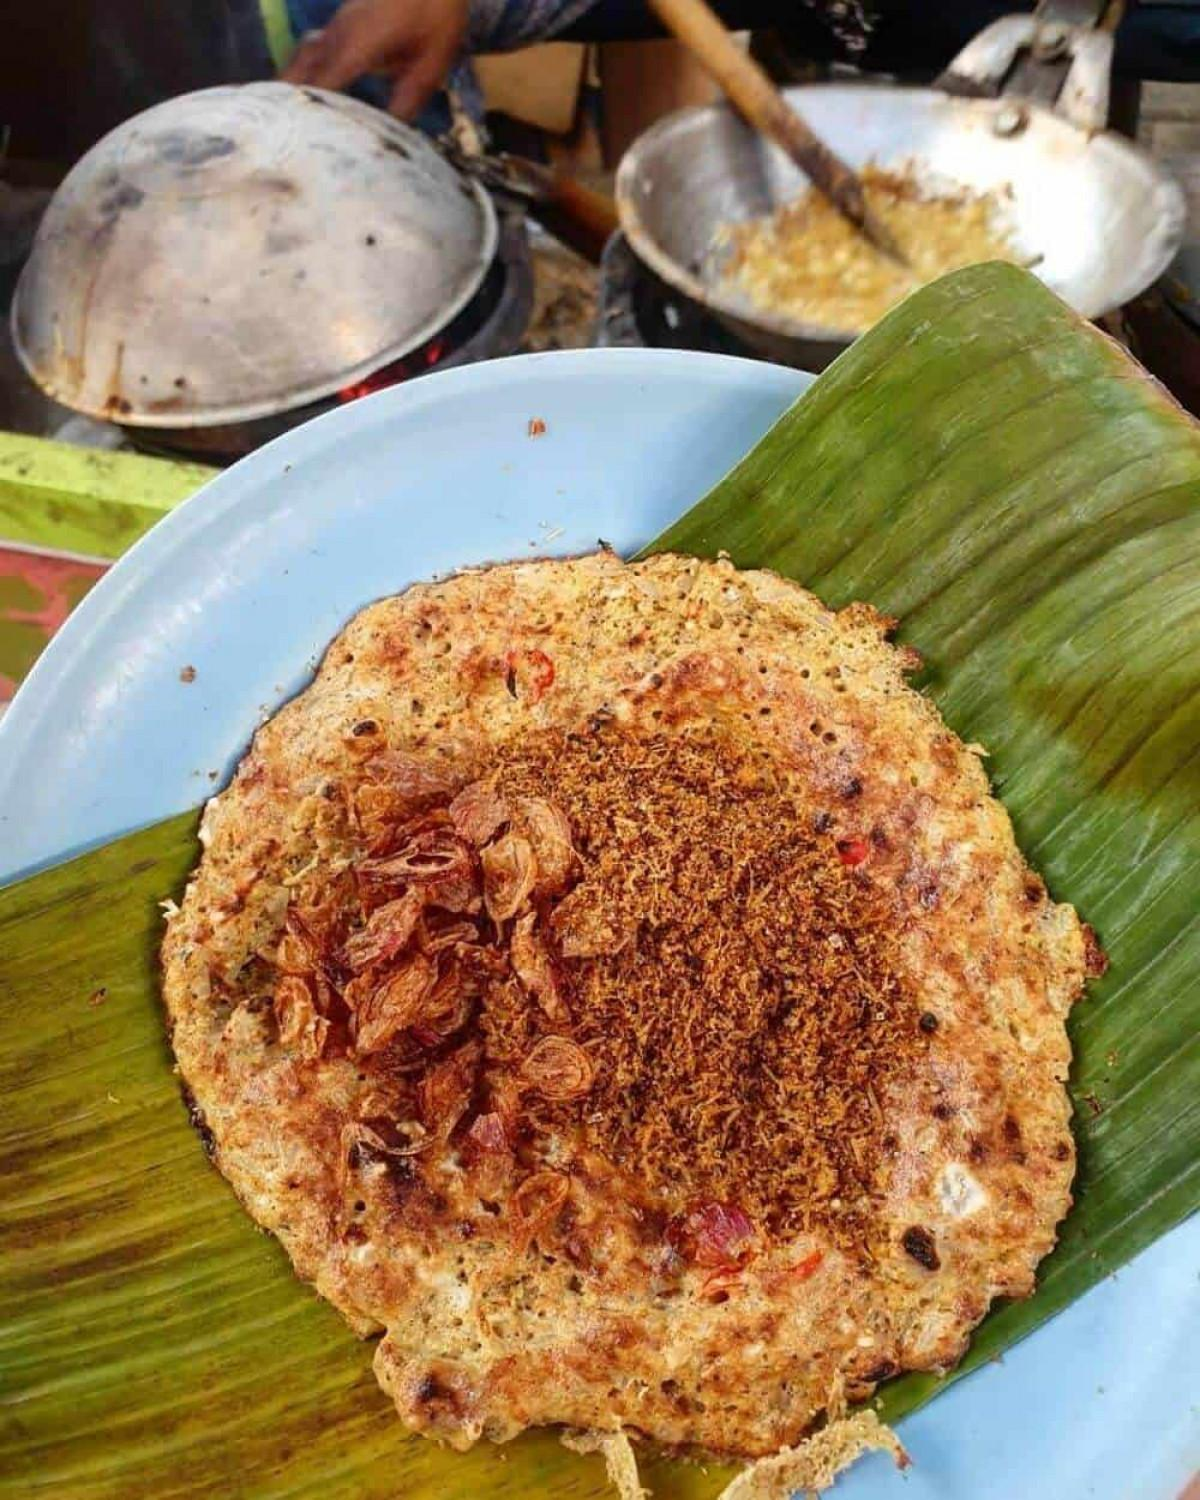kerak_telor: (158, 552, 1078, 1456)
